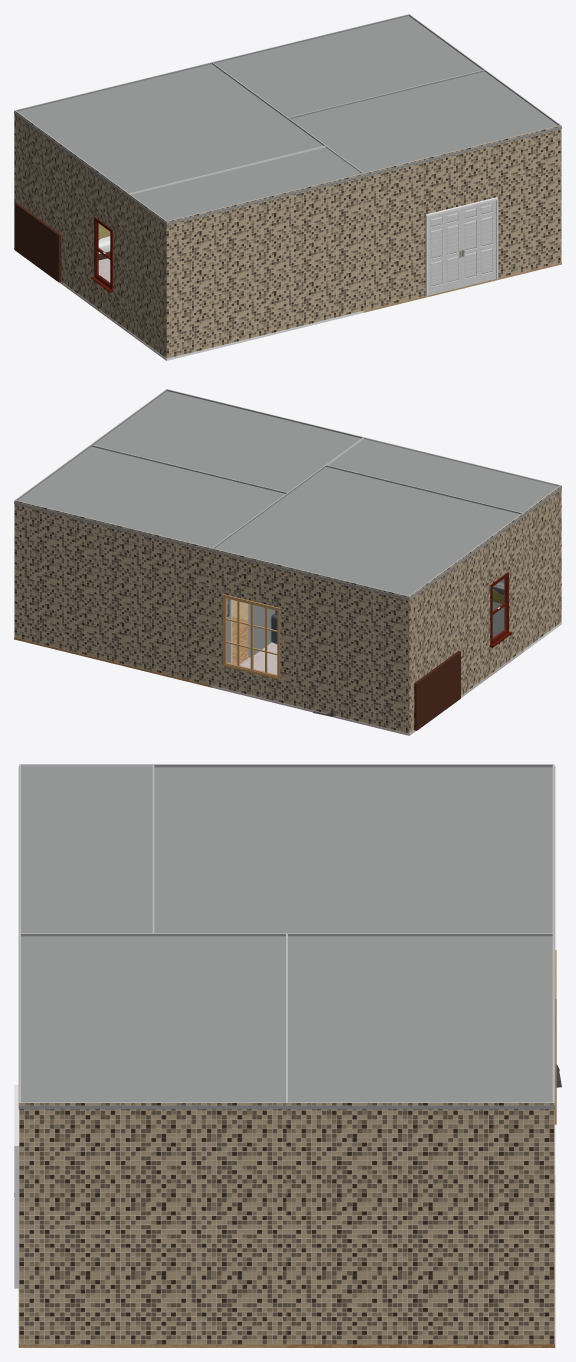
The model's file is ProcTHOR-Train-152.glb.
3 renders of one model, top to bottom at view 1: azimuth 30°, elevation 25°; view 2: azimuth 150°, elevation 25°; view 3: azimuth 270°, elevation 25°, orthographic. The views are drawn at different scales.
Parts seen in each view (by area): view 1: WallInside#wall|exterior|5.27|8.79|10.54|8.79, Ceiling#room|4|c, WallInside#wall|exterior|0.00|8.79|5.27|8.79, Ceiling#room|6|c, Ceiling#room|7|c, WallInside#wall|exterior|10.54|1.76|10.54|7.03, Ceiling#room|5|c, WallInside#wall|exterior|10.54|7.03|10.54|8.79, Bed_30, Doorway_Door_2a, Doorway_Door_2b, Doorway_Double_2 (+8 smaller); view 2: WallInside#wall|exterior|0.00|1.76|5.27|1.76, WallInside#wall|exterior|5.27|1.76|10.54|1.76, Ceiling#room|4|c, Ceiling#room|7|c, Ceiling#room|6|c, WallInside#wall|exterior|10.54|1.76|10.54|7.03, Ceiling#room|5|c, WallInside#wall|exterior|10.54|7.03|10.54|8.79, Bed_30, Window_Fixed_60x72, Floor#room|4|f, Floor#room|7|f (+6 smaller); view 3: Ceiling#room|4|c, WallInside#wall|exterior|0.00|1.76|0.00|5.27, WallInside#wall|exterior|0.00|5.27|0.00|8.79, Ceiling#room|7|c, Ceiling#room|6|c, Ceiling#room|5|c, WallInside#wall|4|10.54|1.76|10.54|7.03, Floor#room|7|f, Doorway_Double_2, Floor#room|6|f, WallInside#wall|7|5.27|1.76|5.27|5.27.
Part boxes in pixels (x1,y1,x2,y2): WallInside#wall|exterior|5.27|8.79|10.54|8.79: [166, 173, 364, 358]; Ceiling#room|4|c: [14, 64, 323, 197]; WallInside#wall|exterior|0.00|8.79|5.27|8.79: [363, 125, 561, 310]; Ceiling#room|6|c: [287, 71, 561, 176]; Ceiling#room|7|c: [214, 16, 482, 117]; WallInside#wall|exterior|10.54|1.76|10.54|7.03: [14, 110, 128, 330]; Ceiling#room|5|c: [128, 147, 364, 225]; WallInside#wall|exterior|10.54|7.03|10.54|8.79: [128, 193, 166, 358]; Bed_30: [14, 202, 110, 282]; Doorway_Door_2a: [428, 208, 461, 295]; Doorway_Door_2b: [462, 200, 495, 287]; Doorway_Double_2: [425, 197, 498, 296]; WallInside#wall|exterior|0.00|1.76|5.27|1.76: [14, 500, 212, 685]; WallInside#wall|exterior|5.27|1.76|10.54|1.76: [211, 548, 409, 733]; Ceiling#room|4|c: [211, 467, 523, 600]; Ceiling#room|7|c: [14, 446, 285, 551]; Ceiling#room|6|c: [92, 391, 361, 494]; WallInside#wall|exterior|10.54|1.76|10.54|7.03: [409, 513, 523, 733]; Ceiling#room|5|c: [328, 439, 561, 515]; WallInside#wall|exterior|10.54|7.03|10.54|8.79: [523, 485, 561, 649]; Bed_30: [313, 651, 460, 730]; Window_Fixed_60x72: [222, 594, 280, 679]; Floor#room|4|f: [211, 642, 523, 735]; Floor#room|7|f: [14, 616, 271, 687]; Ceiling#room|4|c: [152, 766, 555, 934]; WallInside#wall|exterior|0.00|1.76|0.00|5.27: [286, 1102, 554, 1344]; WallInside#wall|exterior|0.00|5.27|0.00|8.79: [19, 1102, 287, 1344]; Ceiling#room|7|c: [285, 935, 555, 1109]; Ceiling#room|6|c: [18, 935, 288, 1109]; Ceiling#room|5|c: [18, 766, 154, 934]; WallInside#wall|4|10.54|1.76|10.54|7.03: [152, 764, 553, 767]; Floor#room|7|f: [285, 1175, 555, 1347]; Doorway_Double_2: [14, 1084, 19, 1288]; Floor#room|6|f: [18, 1289, 288, 1347]; WallInside#wall|7|5.27|1.76|5.27|5.27: [288, 933, 552, 936].
Size of what is drawn, in the model's own units: 10.68 by 3.56 by 7.22.
227 materials, 96 textured.
